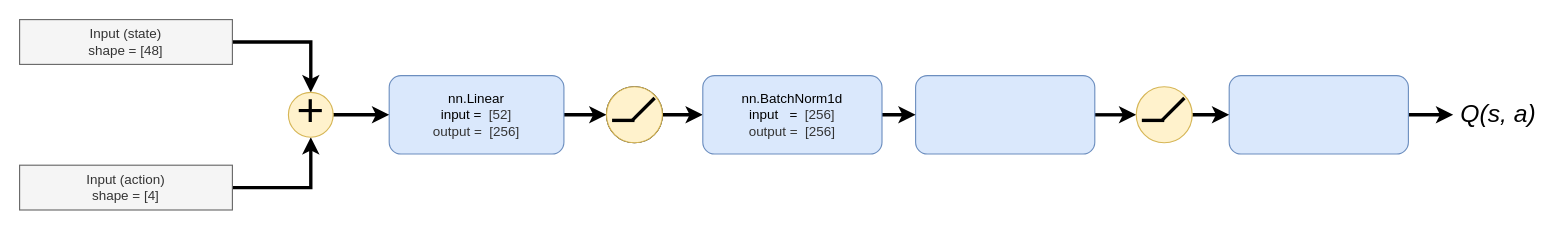
Image size: 1562x230. Some labels were removed from this diagram. The centre of each missing label's shape, as x and y in pixels:
nn.Linear input = [256] output = [1]: [1318,114]
nn.Linear input = [256] output = [256]: [1004,114]
